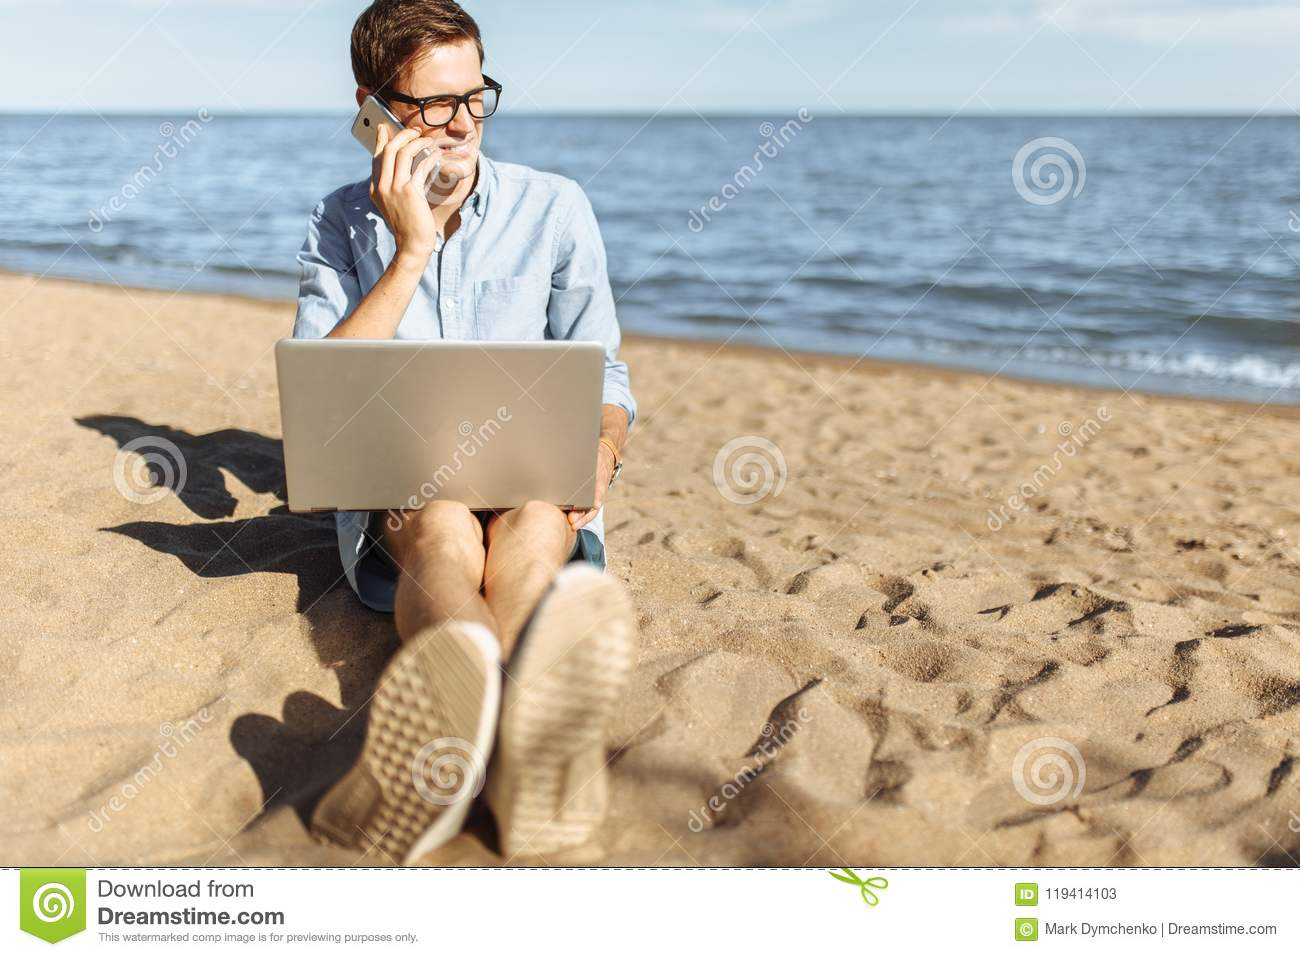phone: (355, 96, 443, 199)
talk: (353, 83, 489, 262)
